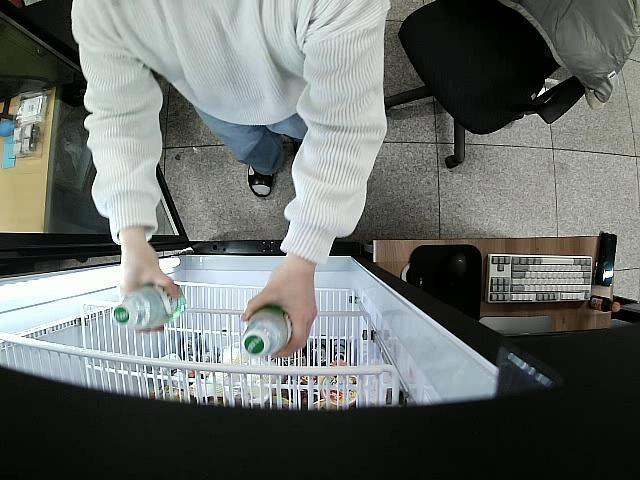18_trevi: (113, 284, 184, 329), (243, 307, 290, 357)
